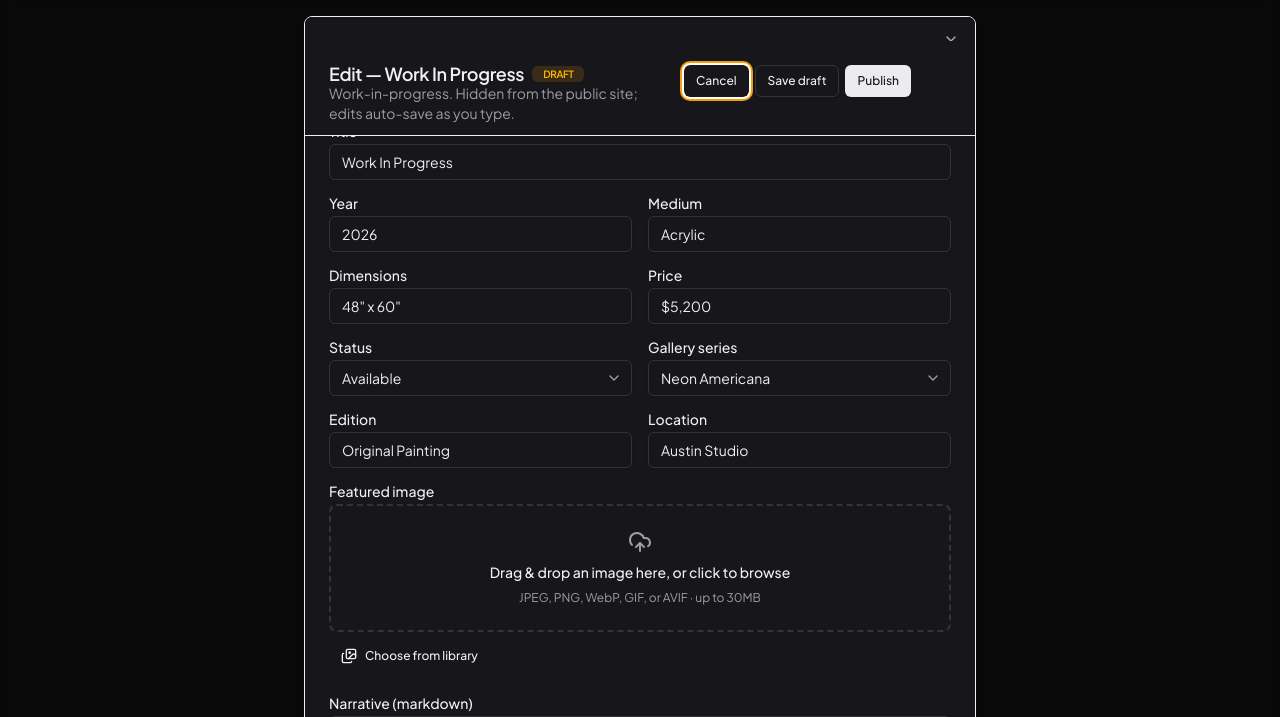
Test case: <ArtworkEditDialog/> auto-save › surfaces save failure in the status indicator and keeps the dialog open
The image size is (1280, 717).
Type "!" into the field labelled "Title *" at (640, 162), box left=329, top=144, right=951, bottom=180
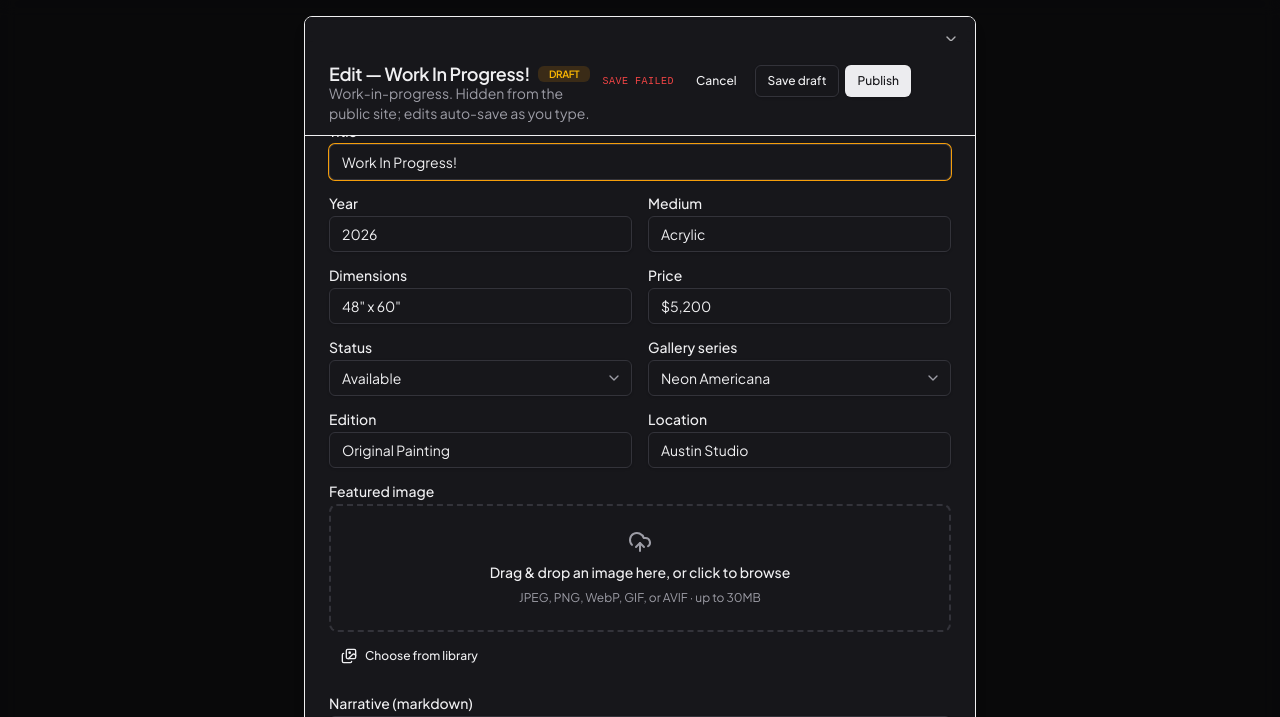
Expected: the text "Save failed" is shown, left=602, top=74, right=674, bottom=88
